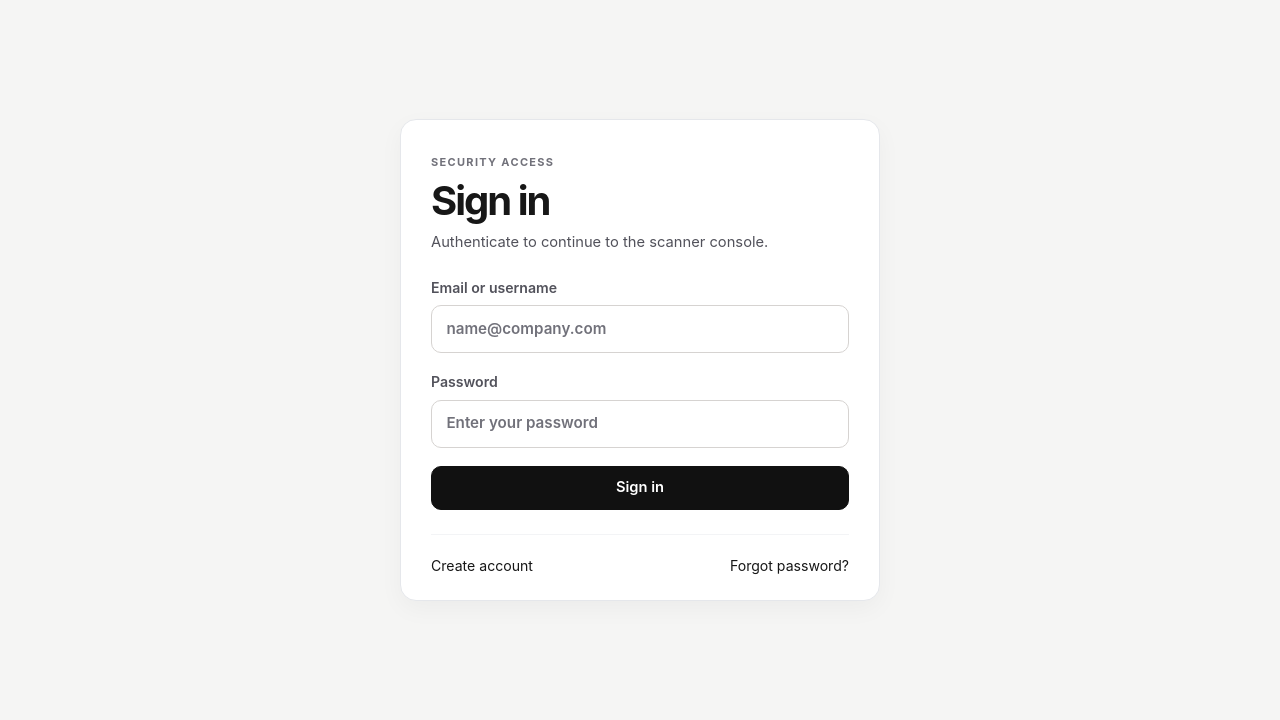
Test case: Authentication, Access Control and IAM Views › logs in with the backend contract and loads the authenticated organization context
Type "admin@example.com" into the field labelled "Email or username" at (640, 329), box [431,305,849,353]
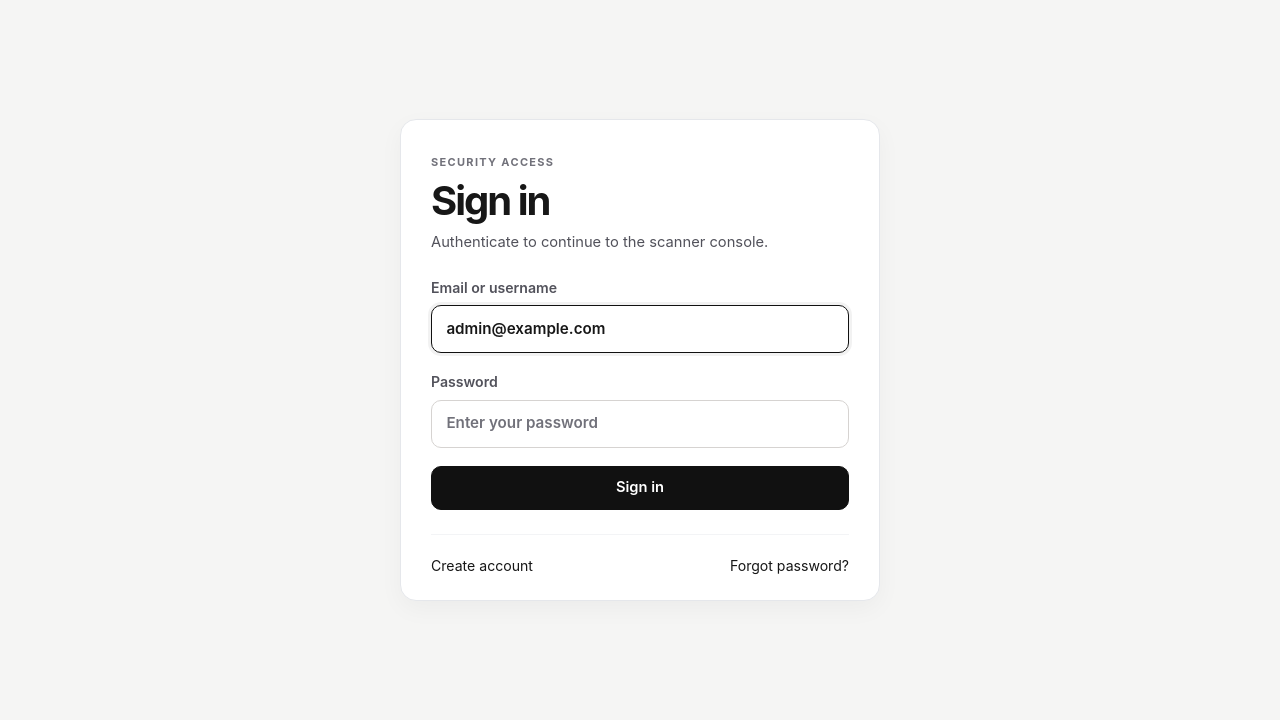
Type "LongPassword123" into the password field labelled "Password" at (640, 424), box [431,400,849,448]
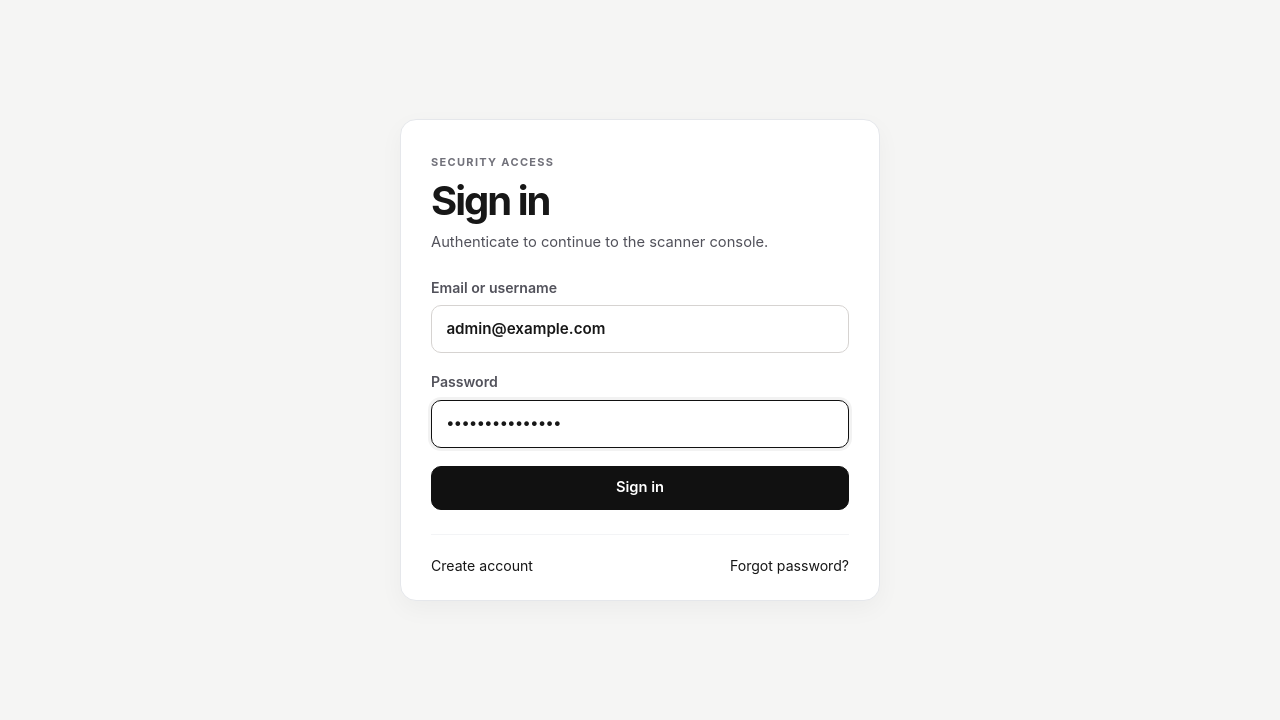
Click the button "Sign in" at (640, 488), box [431,466,849,510]
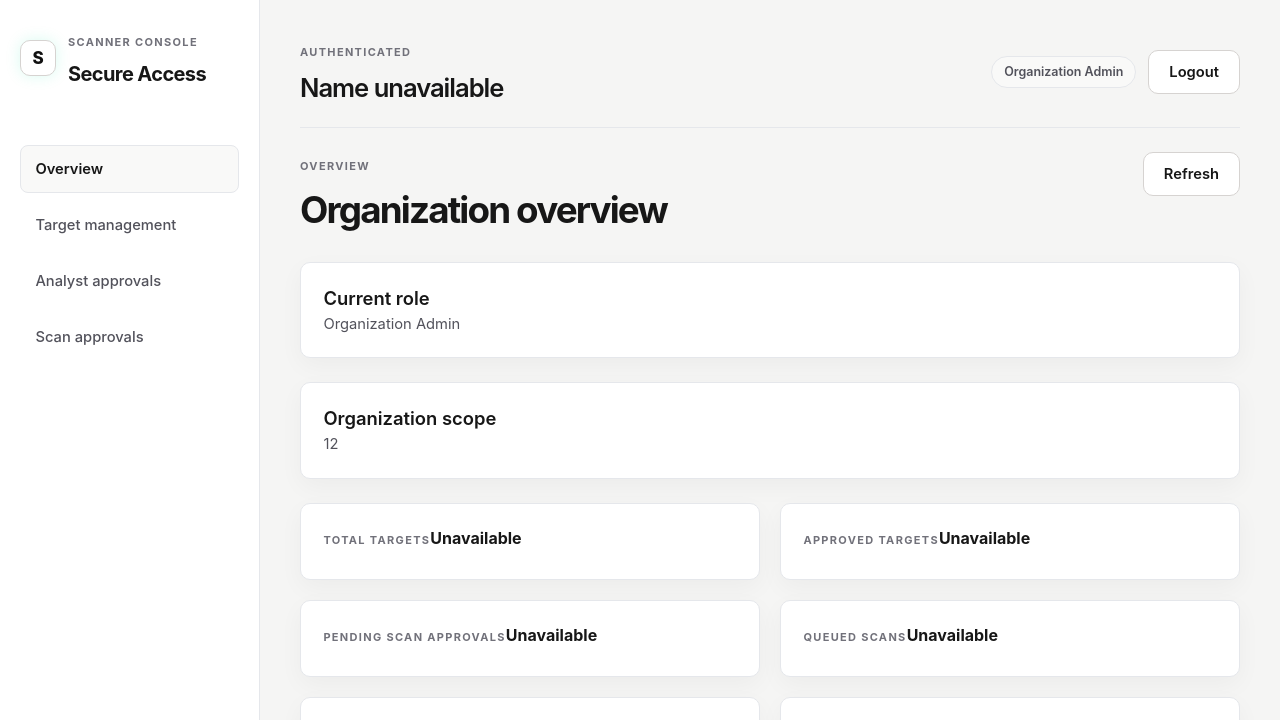
Expected: the text "12" is shown, [323,435,338,453]
Expected: the link "Analyst approvals" is shown, [35,272,161,290]
